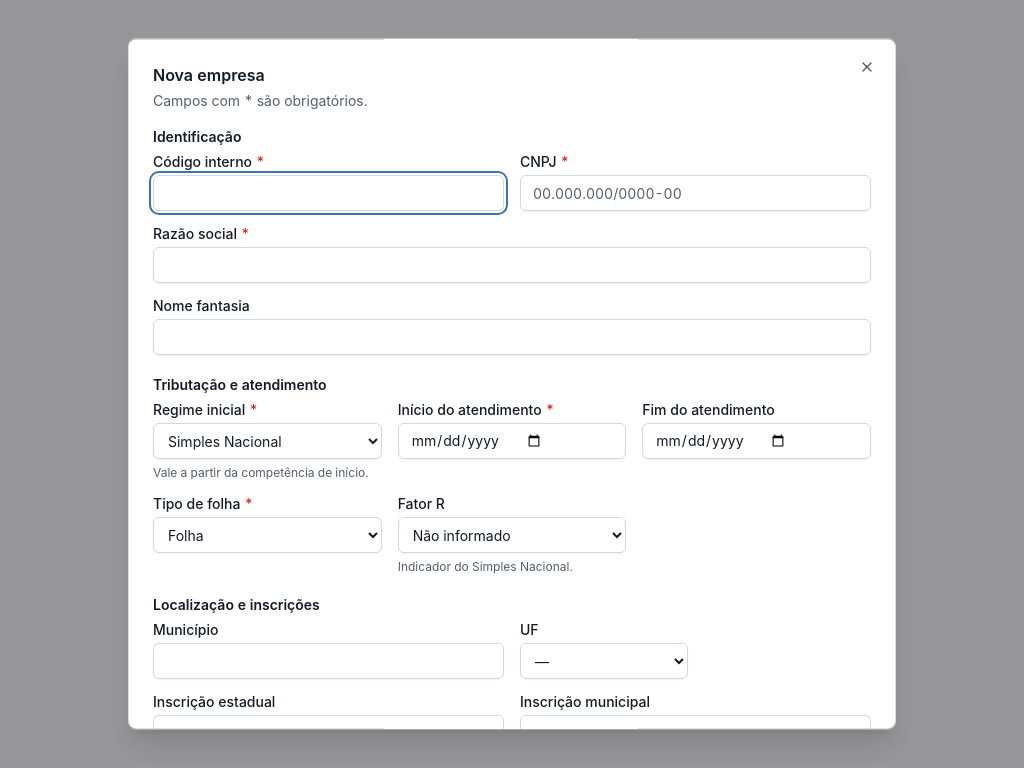
Test case: CompanyForm › CA-002 exibe a empresa conflitante com link para a ficha
The image size is (1024, 768).
Type "301" into the field labelled "Código interno *" at (328, 193), box [153, 175, 504, 211]
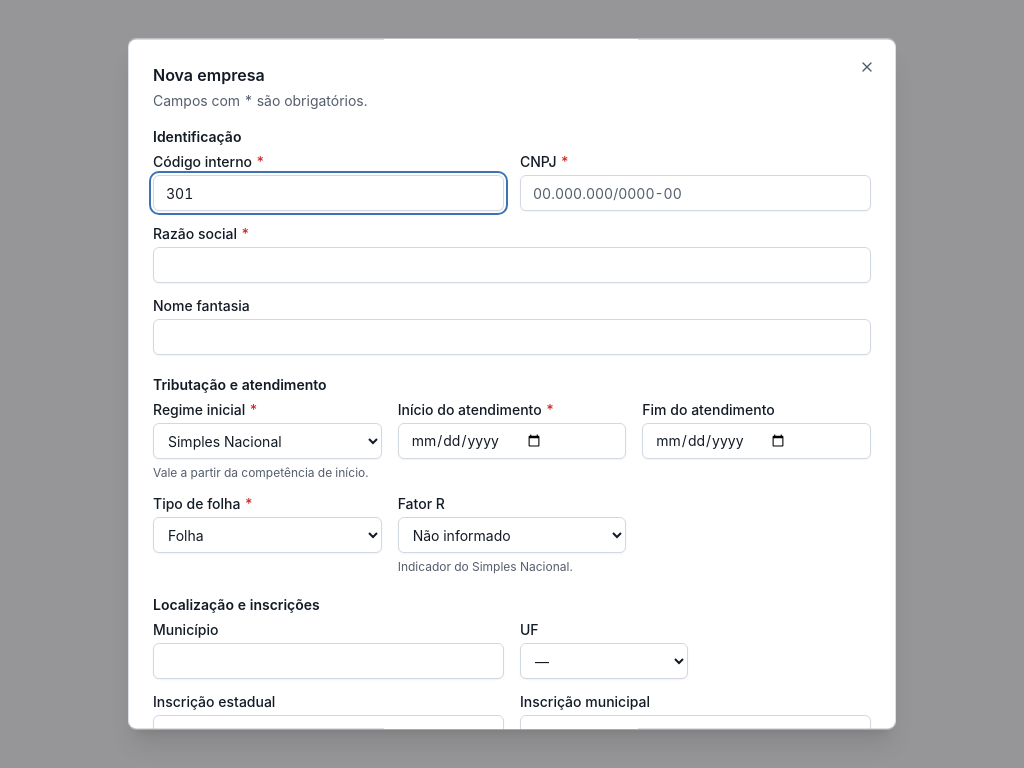
Type "11222333000181" into the field labelled "CNPJ *" at (696, 193), box [520, 175, 871, 211]
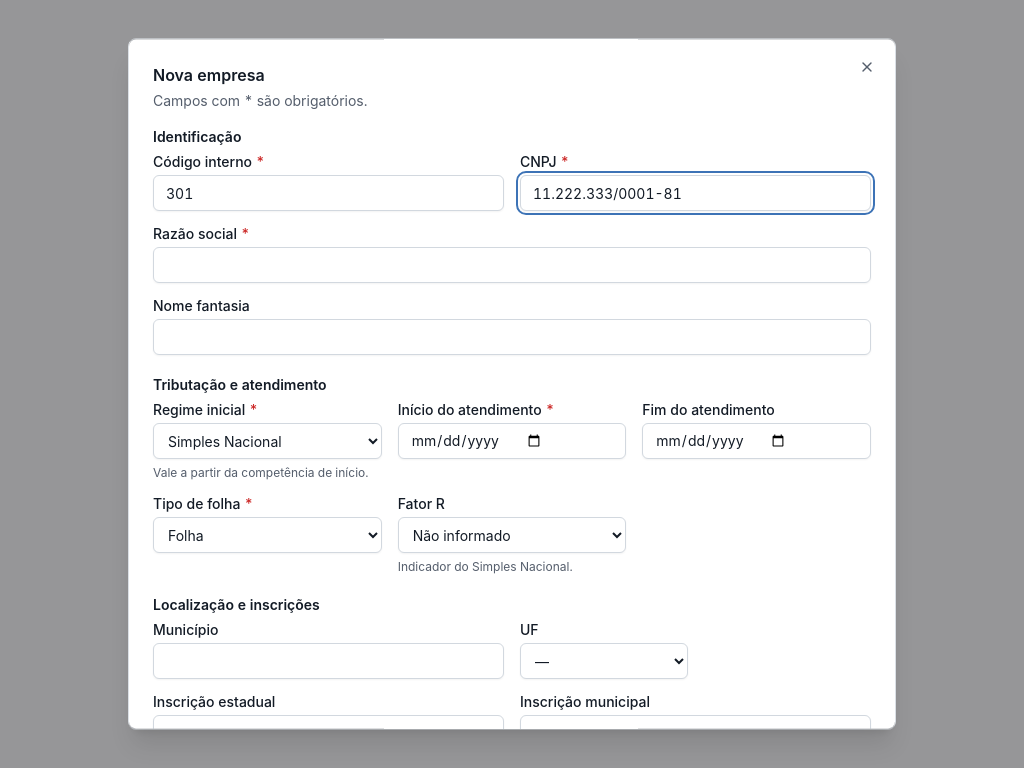
Type "Nova Empresa Ltda" into the field labelled "Razão social *" at (512, 265), box [153, 247, 871, 283]
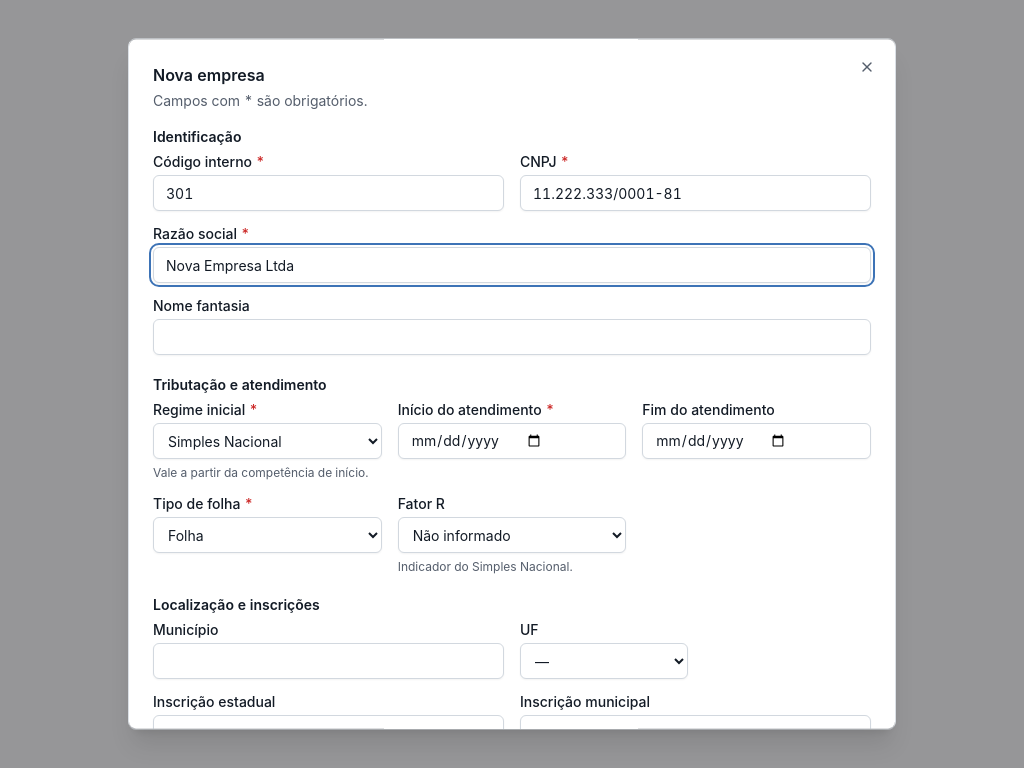
Type "2026-10-01" into the date field labelled "Início do atendimento *" at (512, 441), box [398, 423, 626, 459]
(page scrolled)
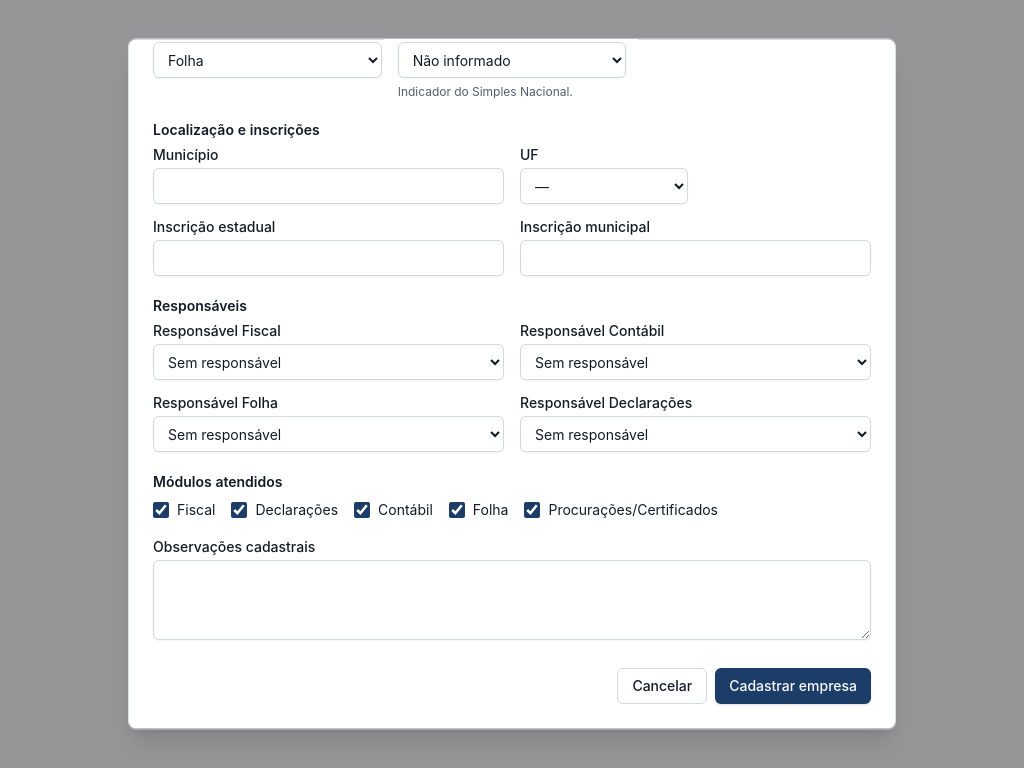
Click the button "Cadastrar empresa" at (793, 686), box [715, 668, 871, 704]
(page scrolled)
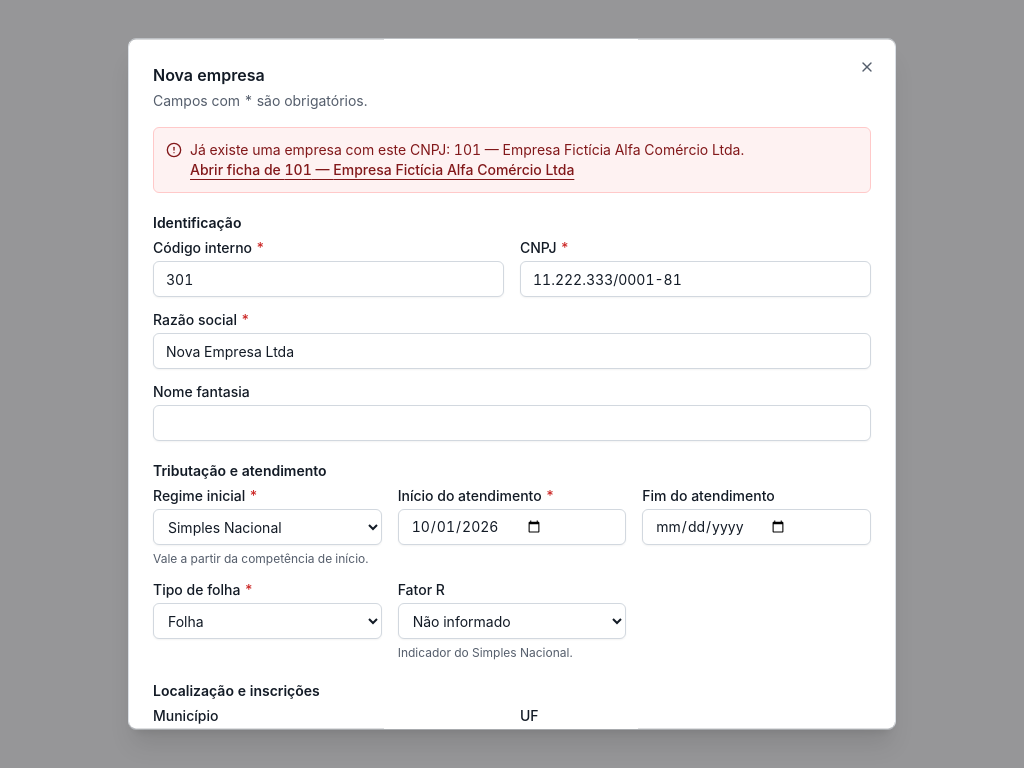
Expected: the text "Já existe uma empresa com este CNPJ" is shown, [190, 141, 744, 158]
